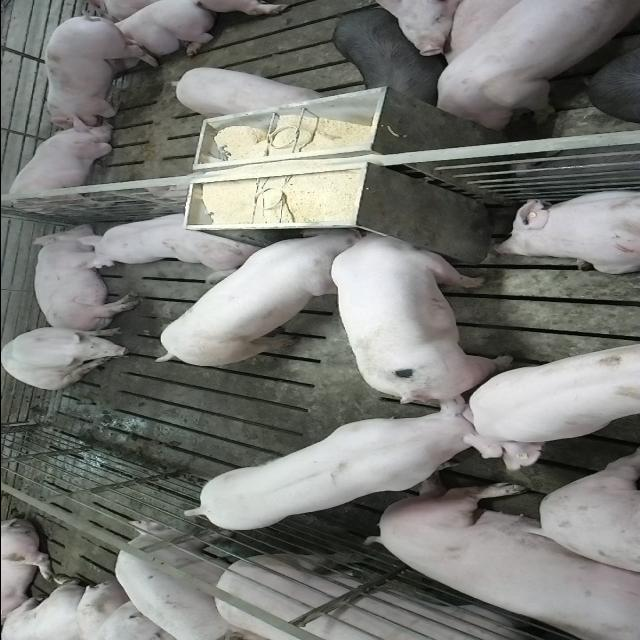Feeding: (330, 221, 514, 397), (147, 229, 360, 371)
Lateral_lying: (366, 482, 640, 636), (27, 222, 139, 333)
Sitting: (0, 125, 124, 218), (2, 326, 136, 390)
Standing: (183, 400, 512, 536), (204, 551, 626, 640), (426, 2, 636, 132), (466, 339, 640, 467), (107, 523, 256, 640), (38, 16, 158, 131), (330, 8, 446, 104), (165, 62, 323, 116)
Sternal_lying: (76, 206, 260, 278), (490, 187, 640, 275), (84, 1, 212, 66)
